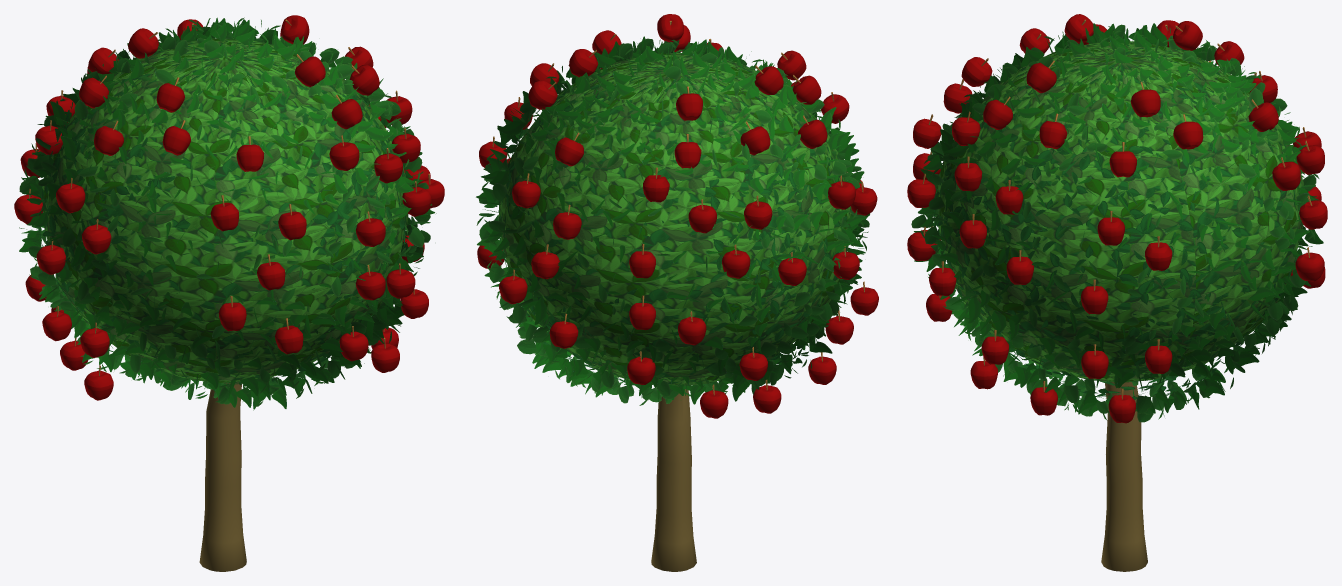
The model's file is apple_tree3_LP2.fbx.
The picture shows the model from 3 angles, left to right: view 1: azimuth 30°, elevation 25°; view 2: azimuth 150°, elevation 25°; view 3: azimuth 270°, elevation 25°; orthographic projection. The views are drawn at different scales.
Parts seen in each view (by area): view 1: pasted__pasted__pSphere1, pasted__pasted__leaves1, pasted__appel30, pasted__pasted__pCube1; view 2: pasted__pasted__pSphere1, pasted__pasted__leaves1, pasted__appel30, pasted__pasted__pCube1; view 3: pasted__pasted__pSphere1, pasted__pasted__leaves1, pasted__appel30, pasted__pasted__pCube1.
Part boxes in pixels (<box>): pasted__pasted__pSphere1: <box>42,38,408,383</box>; pasted__pasted__leaves1: <box>19,17,436,410</box>; pasted__appel30: <box>14,15,444,400</box>; pasted__pasted__pCube1: <box>199,382,246,571</box>; pasted__pasted__pSphere1: <box>499,53,852,385</box>; pasted__pasted__leaves1: <box>476,36,869,405</box>; pasted__appel30: <box>477,14,878,418</box>; pasted__pasted__pCube1: <box>651,389,696,571</box>; pasted__pasted__pSphere1: <box>936,41,1304,382</box>; pasted__pasted__leaves1: <box>911,23,1323,422</box>; pasted__appel30: <box>907,14,1327,423</box>; pasted__pasted__pCube1: <box>1101,382,1147,571</box>.
Bounding box in the file's own units: 2.44 × 3.25 × 2.38.
